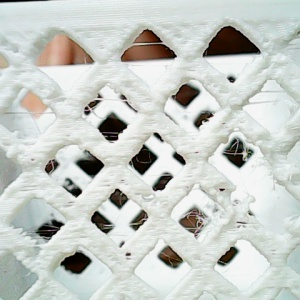3dpstringing: (100, 191, 150, 240), (89, 96, 131, 142), (172, 205, 227, 236), (4, 107, 58, 136), (126, 158, 175, 186), (244, 87, 290, 112), (219, 140, 261, 164), (20, 223, 65, 245), (158, 246, 187, 270), (127, 37, 170, 53), (45, 155, 62, 179), (123, 63, 155, 74)
3dpunderextrusion: (224, 180, 264, 227), (5, 40, 37, 73)
